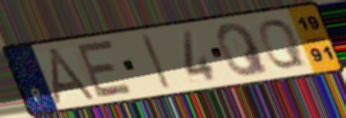4: (180, 28, 218, 83)
A: (47, 46, 101, 107)
E: (75, 38, 136, 101)
I: (138, 31, 174, 92)
Q: (214, 21, 273, 79), (257, 17, 309, 71)
